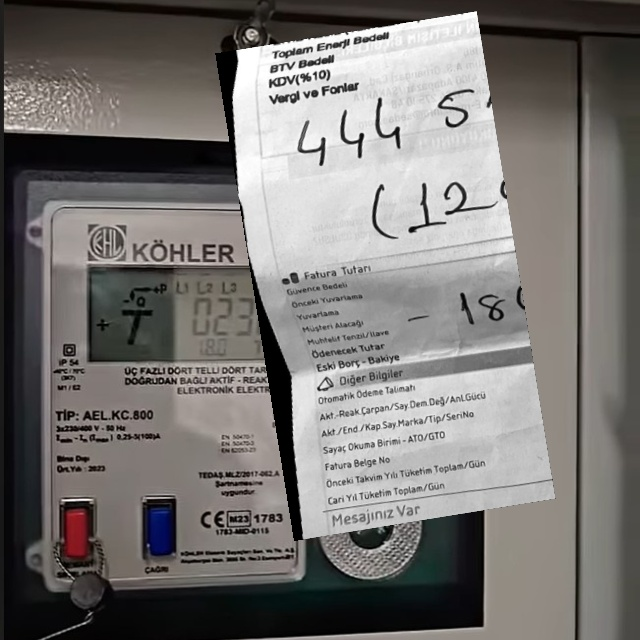electricity-bill: (214, 11, 555, 541)
